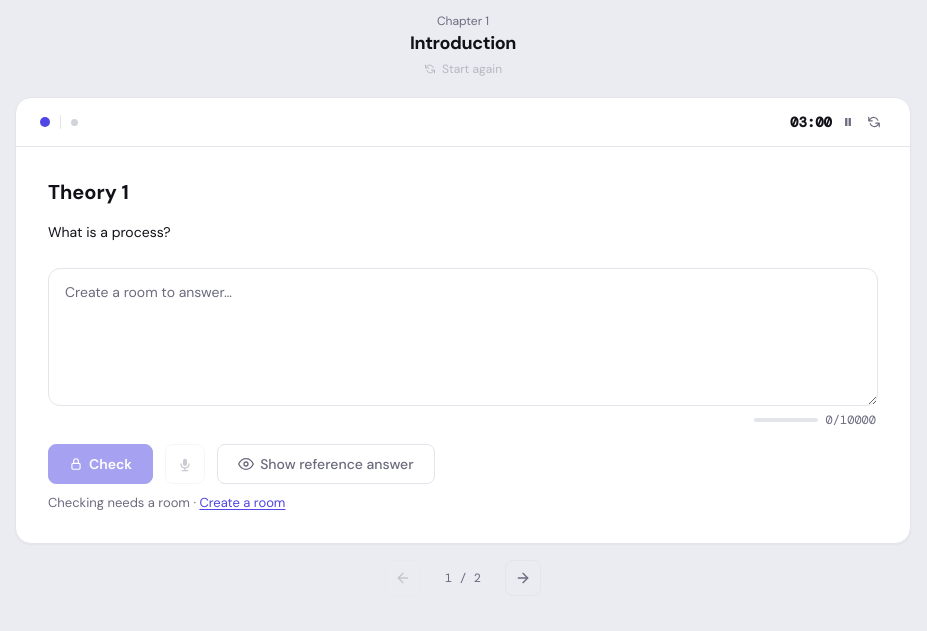
Test case: Contest › read-only (no room) › shows room creation errors on the question view
The width and height of the screenshot is (927, 631).
Click the button "Create a room" at (242, 502), box [199, 494, 285, 511]
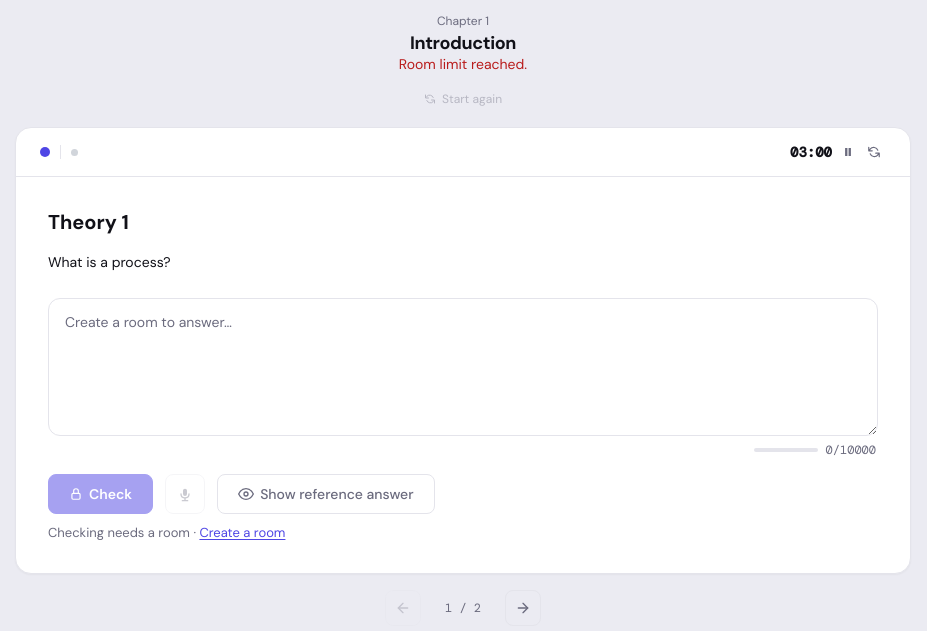
Result: the message reads "Room limit reached." at [399, 55, 527, 73]
